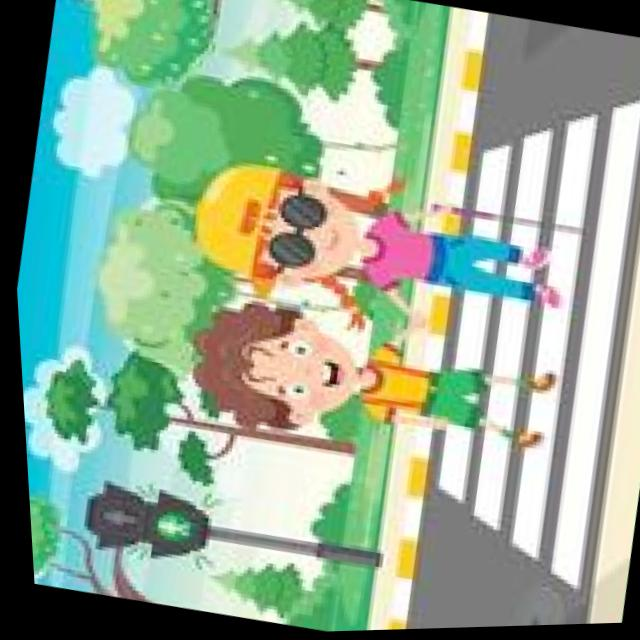green_light: (132, 480, 231, 591)
